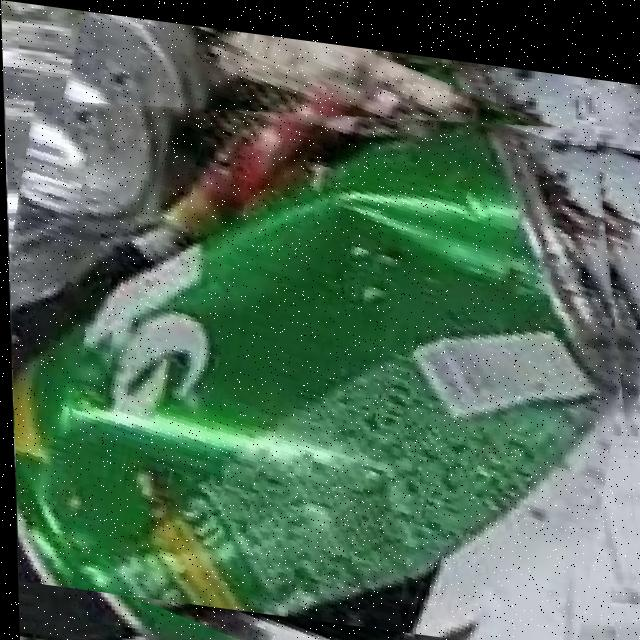can: (9, 109, 622, 603)
